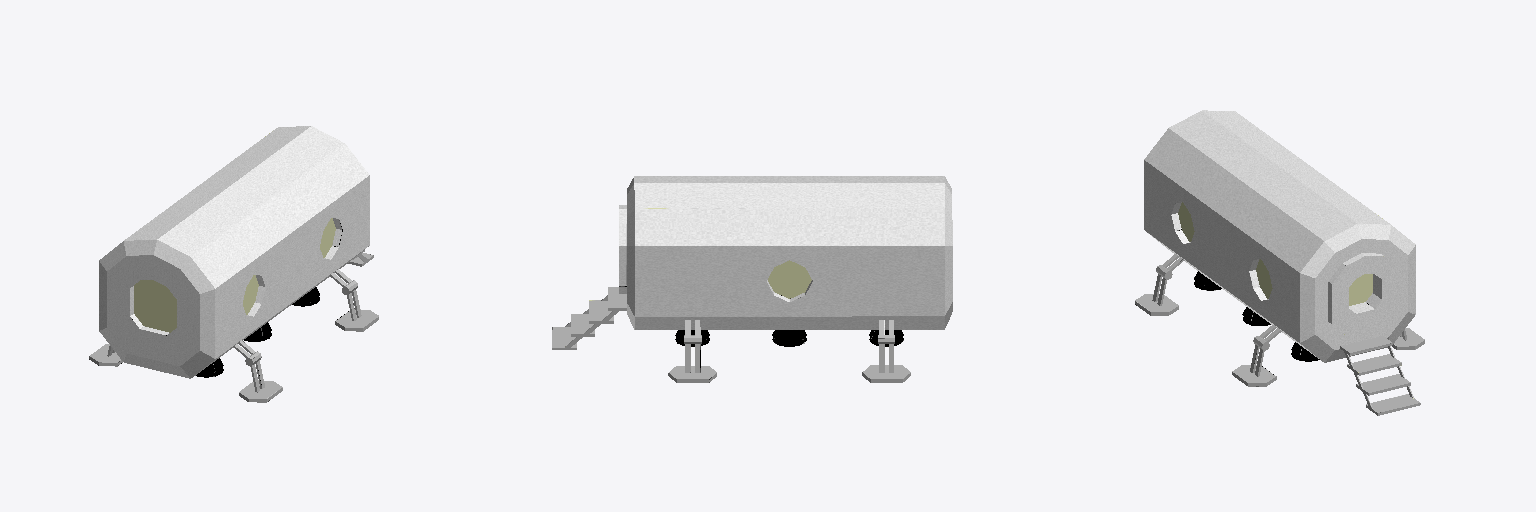
The picture shows the model from 3 angles: view 1: azimuth 30°, elevation 25°; view 2: azimuth 150°, elevation 25°; view 3: azimuth 270°, elevation 25°; orthographic projection.
Visible parts, largest first — view 1: BasestationJoined_Cone.001; view 2: BasestationJoined_Cone.001; view 3: BasestationJoined_Cone.001.
Boxes of the visible parts, <box> form: BasestationJoined_Cone.001: <box>89,126,378,402</box>; BasestationJoined_Cone.001: <box>552,176,952,382</box>; BasestationJoined_Cone.001: <box>1135,110,1424,415</box>.
Bounding box in the file's own units: 2.15 × 0.9651 × 1.62.
Materials: 4 (1 with a texture image).